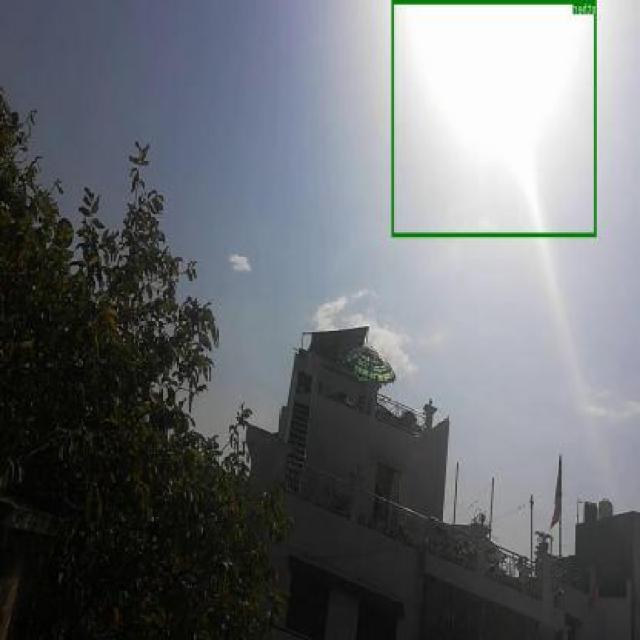other: (393, 0, 597, 235)
